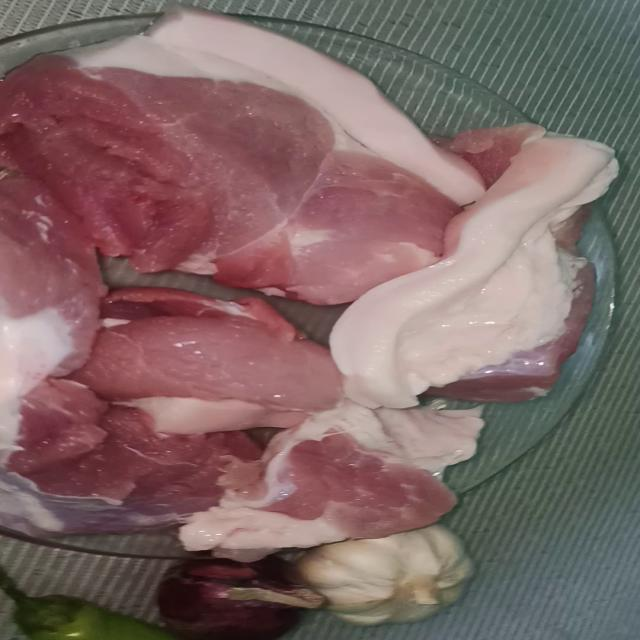chili_pepper: (0, 562, 180, 640)
garlic: (302, 522, 477, 622)
onion: (152, 551, 334, 640)
pork: (6, 20, 418, 285), (350, 135, 610, 408), (202, 390, 516, 570), (59, 277, 332, 415), (0, 412, 261, 530), (0, 215, 133, 430)
